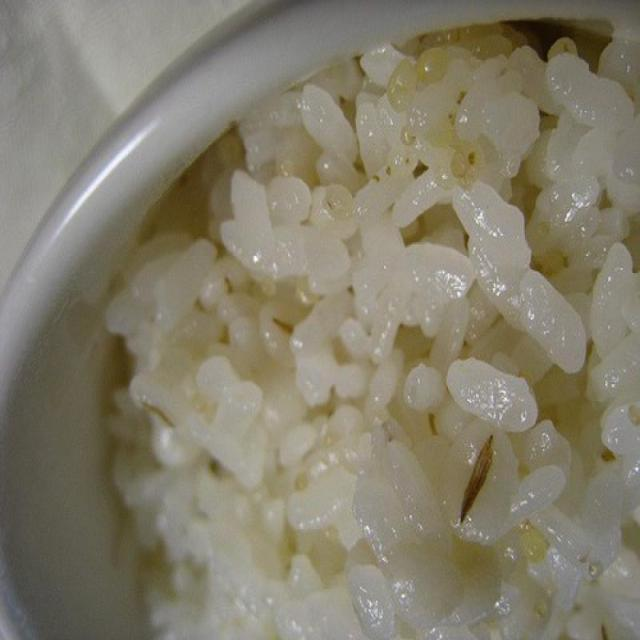nasi_putih: (108, 23, 640, 640)
